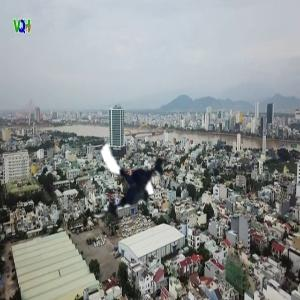drone: (81, 129, 184, 232)
